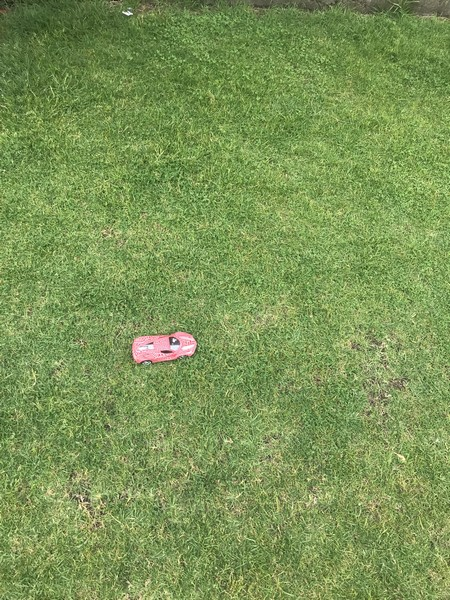RC: (130, 330, 199, 365)
